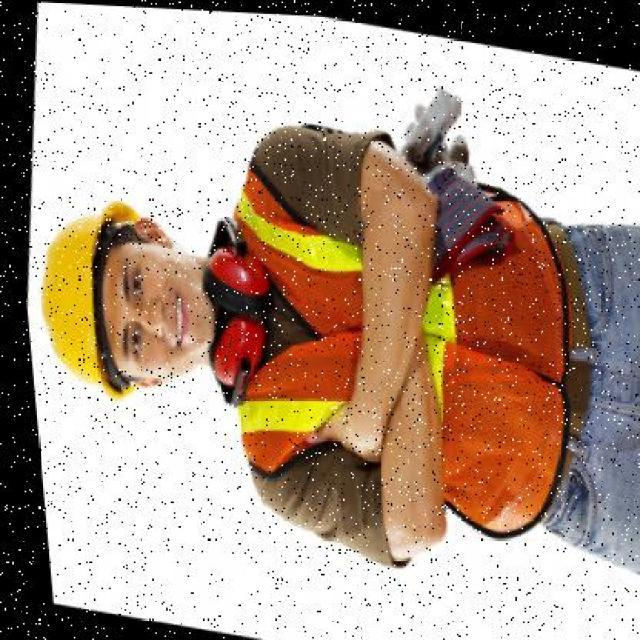helmet: (22, 189, 133, 391)
vest: (197, 166, 599, 526)
